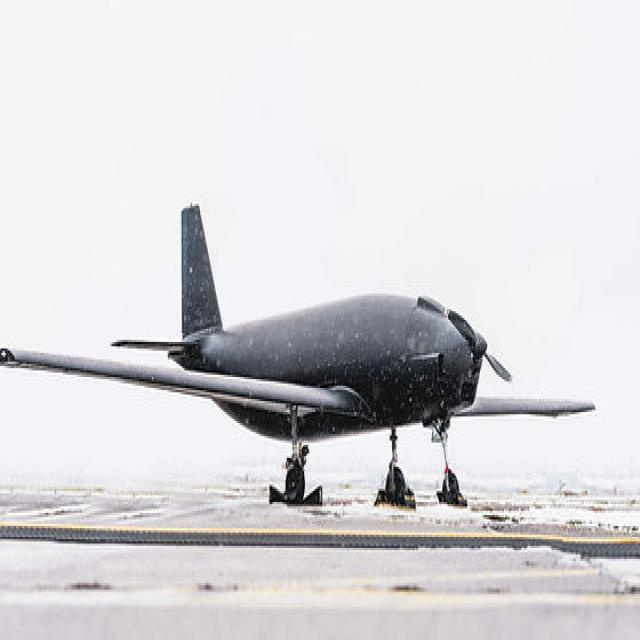iha: (0, 197, 602, 506)
